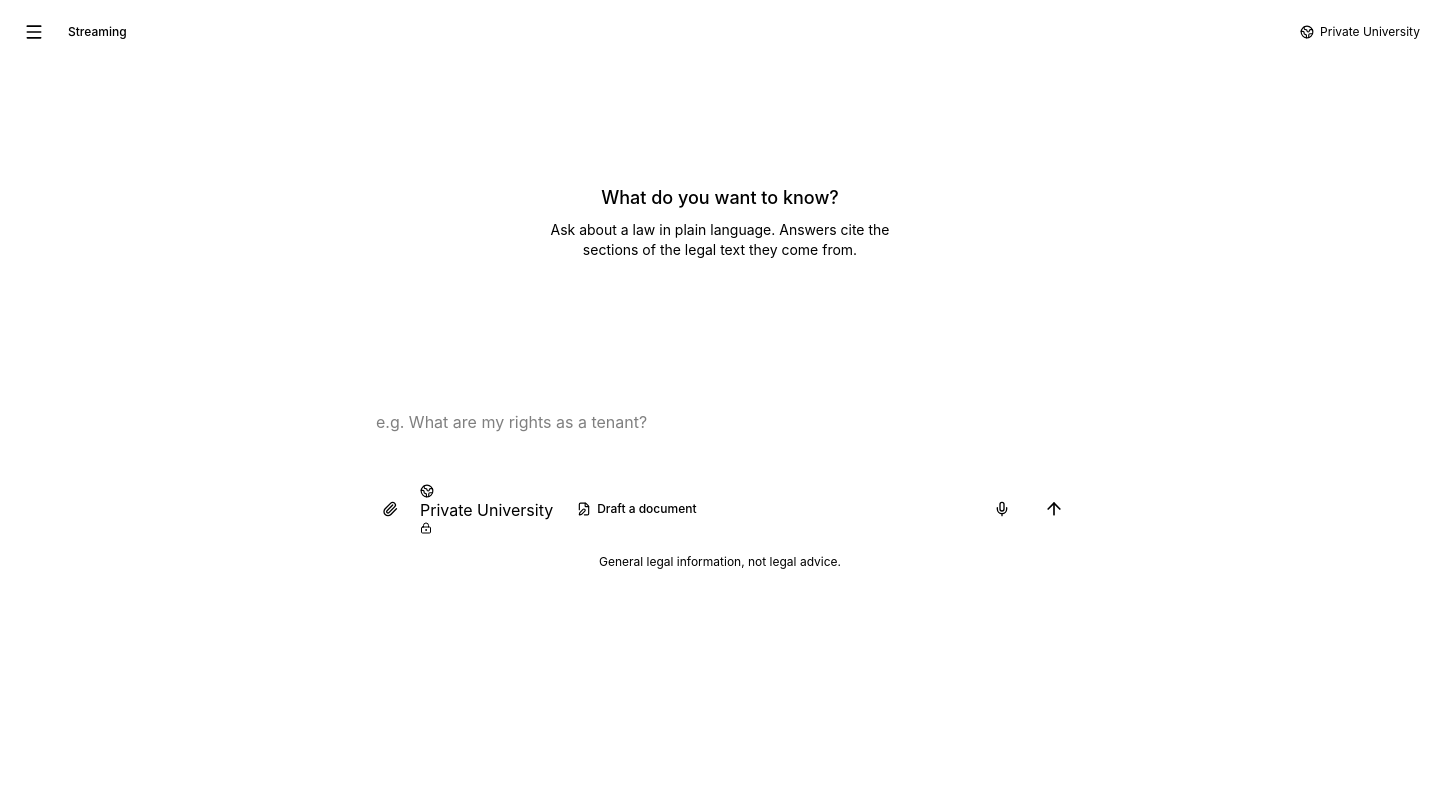
Test case: provisional ordinary streaming › does not offer ordinary Stop while a reviewed job acknowledgement is pending
The width and height of the screenshot is (1440, 810).
Type "What are my rights?" into the text box at (720, 436), box x1=364 y1=396 x2=1076 y2=476
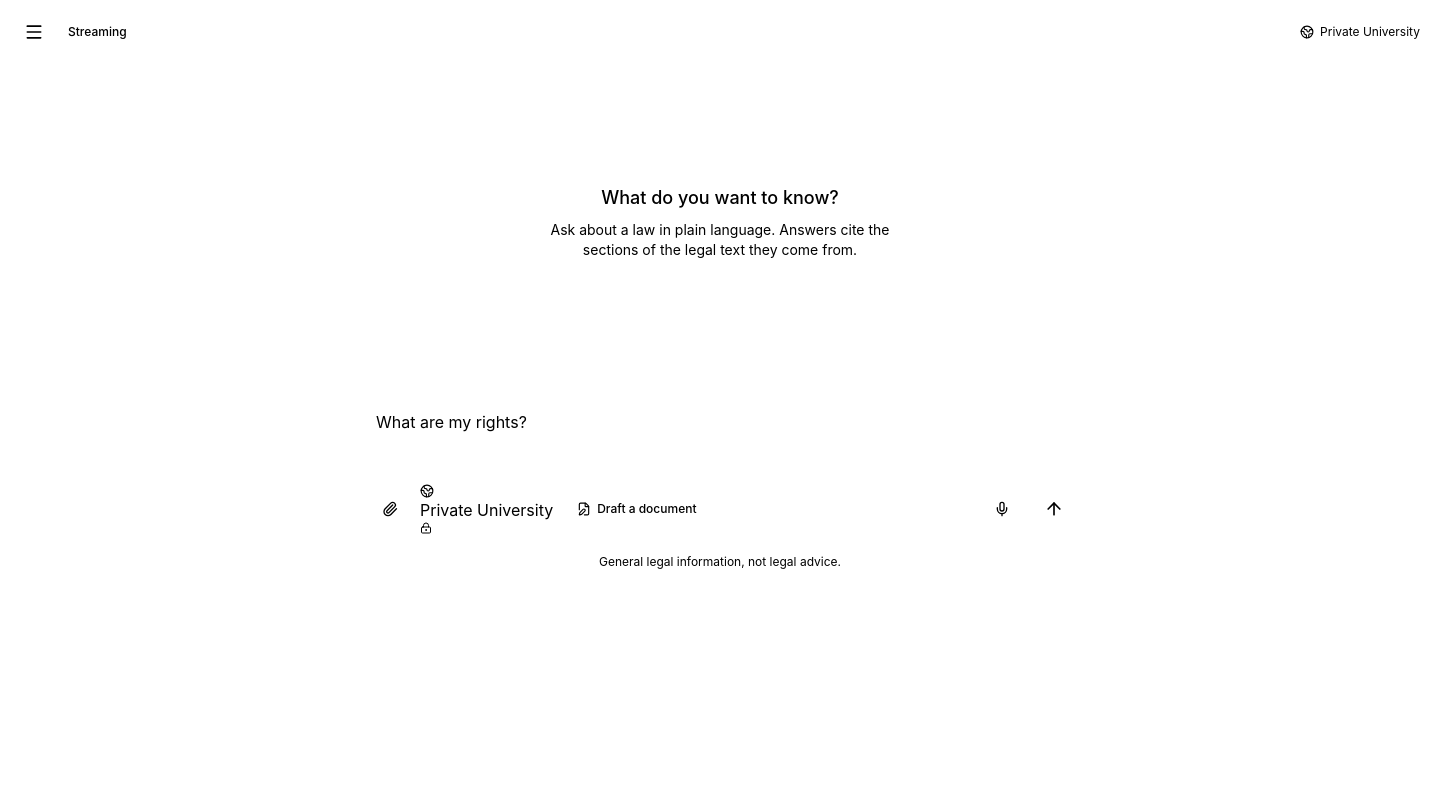
Click the button named "Send question" at (1054, 509), box x1=1032 y1=487 x2=1076 y2=531
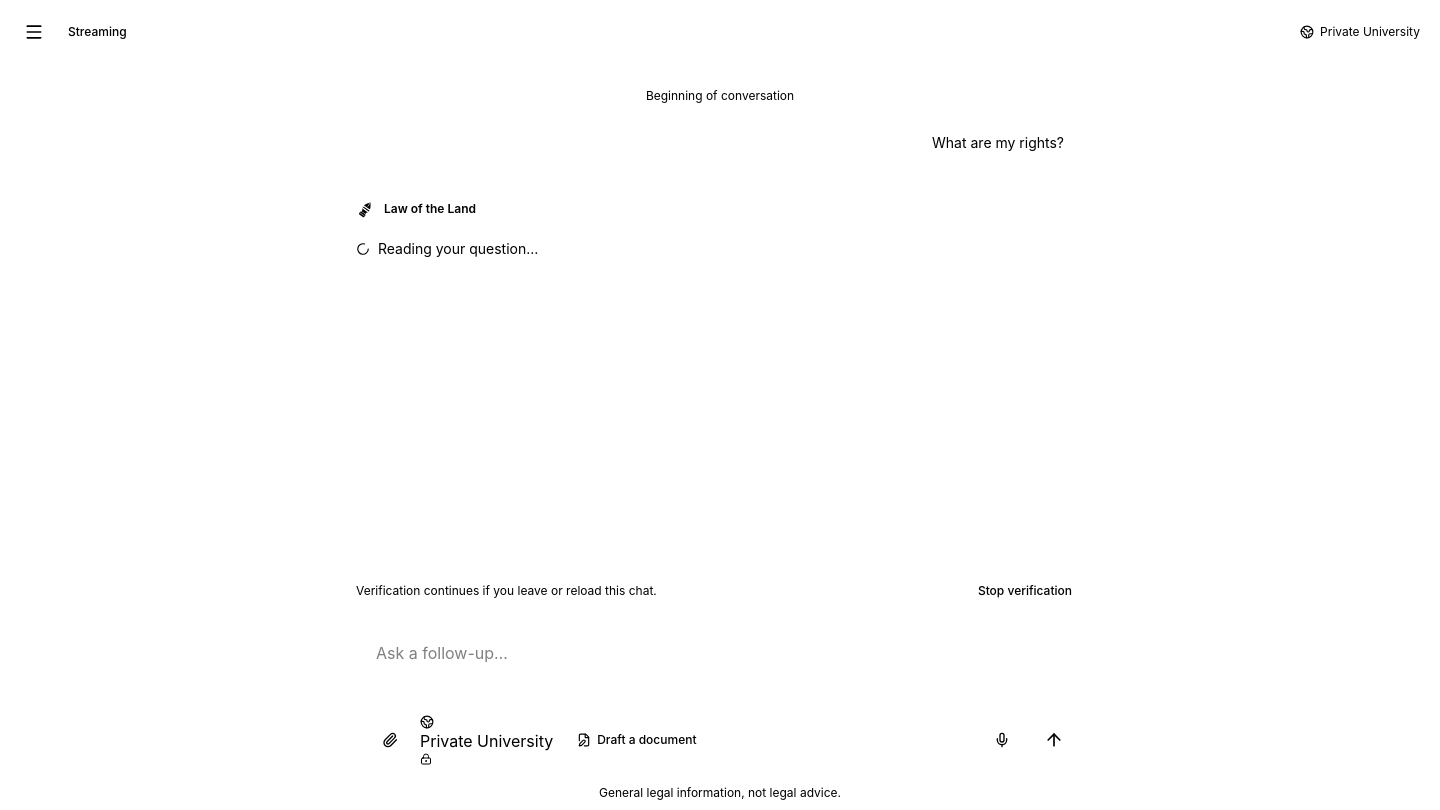
Expected: the button "Stop verification" is shown, x1=966 y1=575 x2=1084 y2=607
